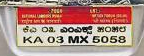0: (101, 35, 110, 44), (47, 36, 55, 43)
3: (56, 36, 65, 43)
5: (109, 34, 118, 44), (92, 35, 101, 44)
8: (118, 35, 127, 44)
A: (33, 36, 44, 44)
K: (23, 36, 33, 44)
M: (68, 35, 79, 44)
X: (79, 35, 90, 44)
